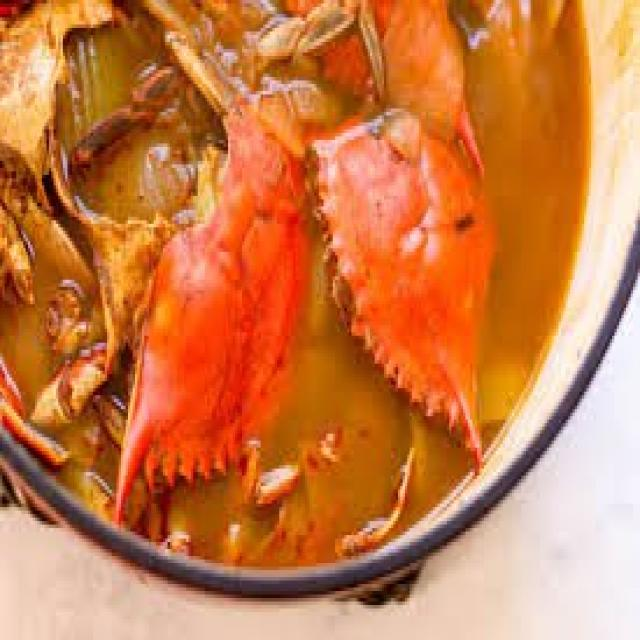crab: (111, 73, 365, 466)
